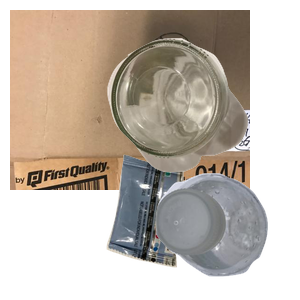cardboard: (10, 10, 250, 190)
glass: (105, 36, 300, 201)
plastic: (153, 170, 300, 300)
trash: (104, 152, 280, 300)
